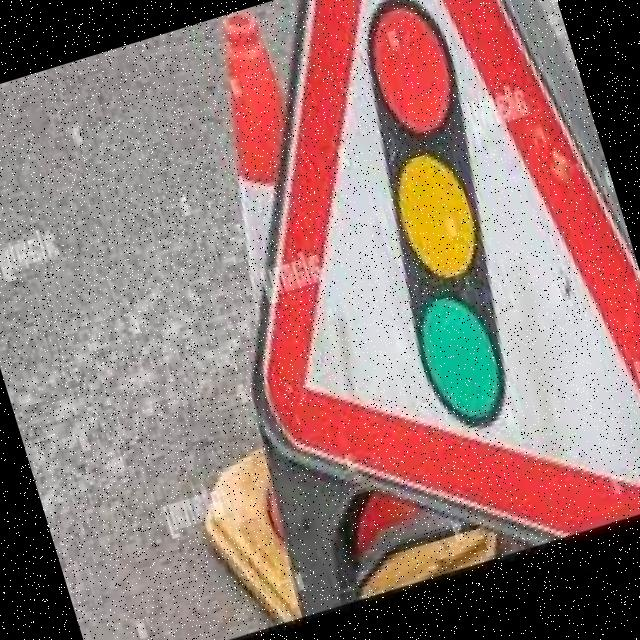light_traffic: (161, 0, 640, 627)
